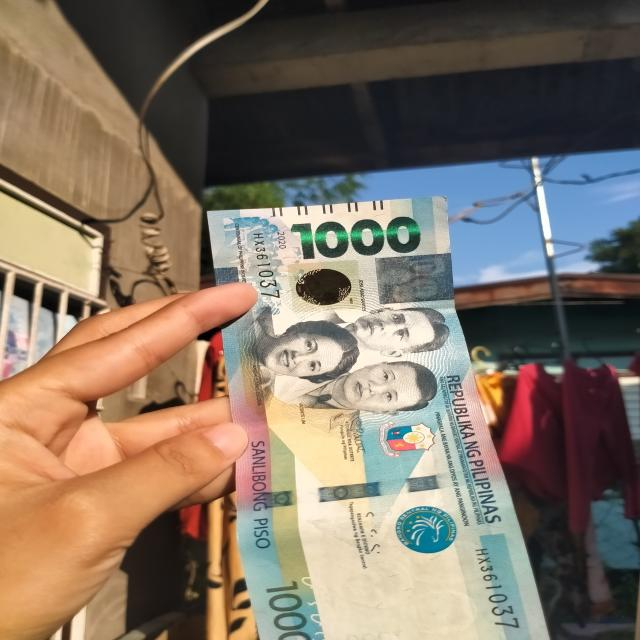concealed_value: (374, 254, 454, 302)
optically_variable_device: (288, 261, 363, 311)
security_thread: (233, 465, 505, 511)
see_through_mark: (298, 573, 335, 640)
serial_number: (473, 547, 545, 634), (252, 228, 284, 304)
value: (288, 217, 426, 260)
value_watermark: (341, 624, 406, 640)
watermark: (330, 538, 492, 628)
